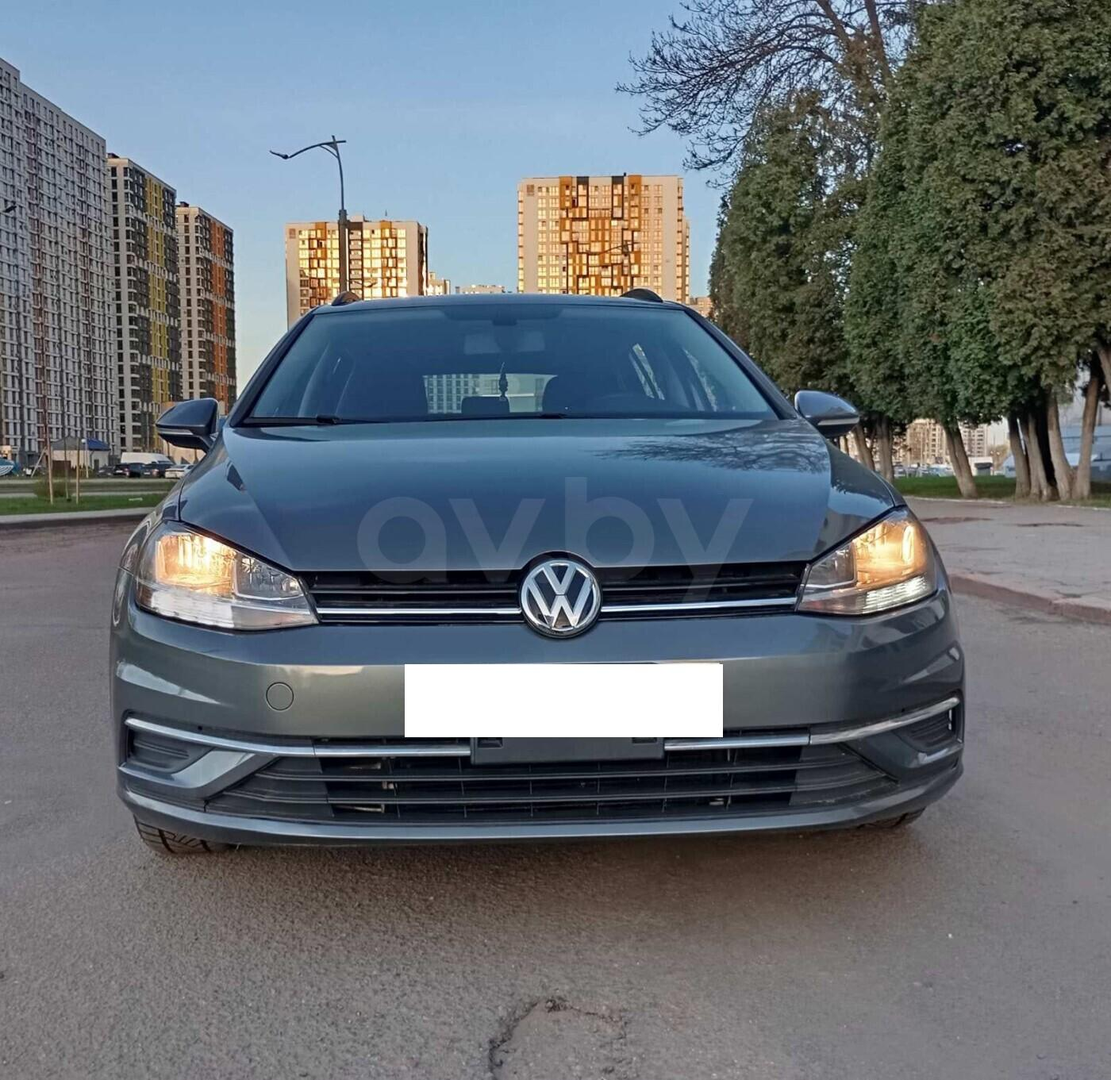Golf_2017-2021: (101, 284, 986, 865)
